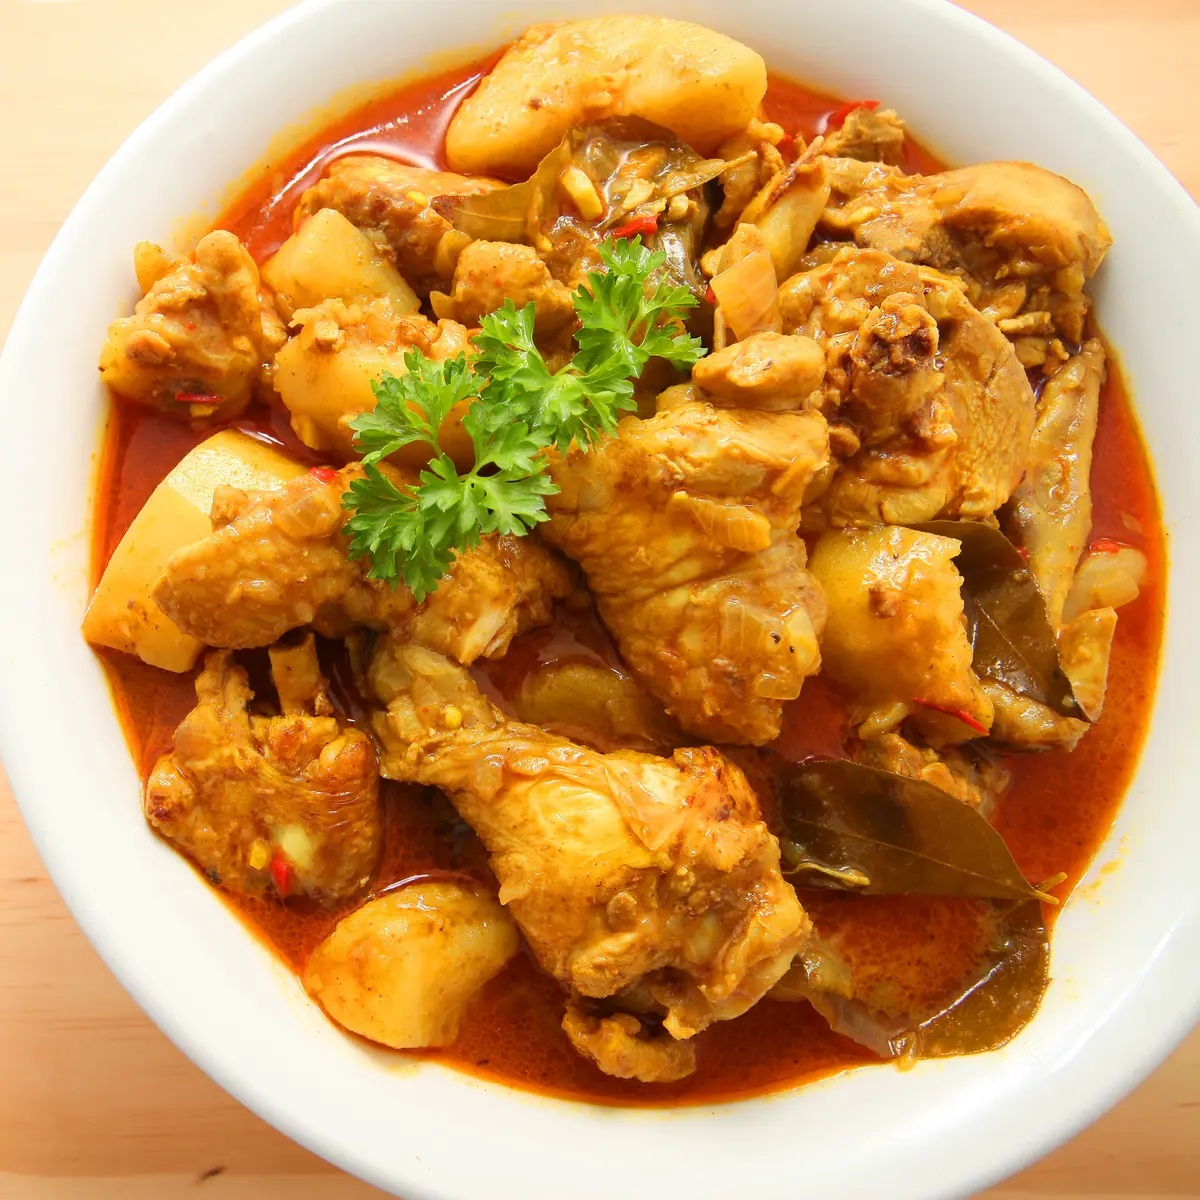gulai_ayam: (52, 10, 1196, 1104)
